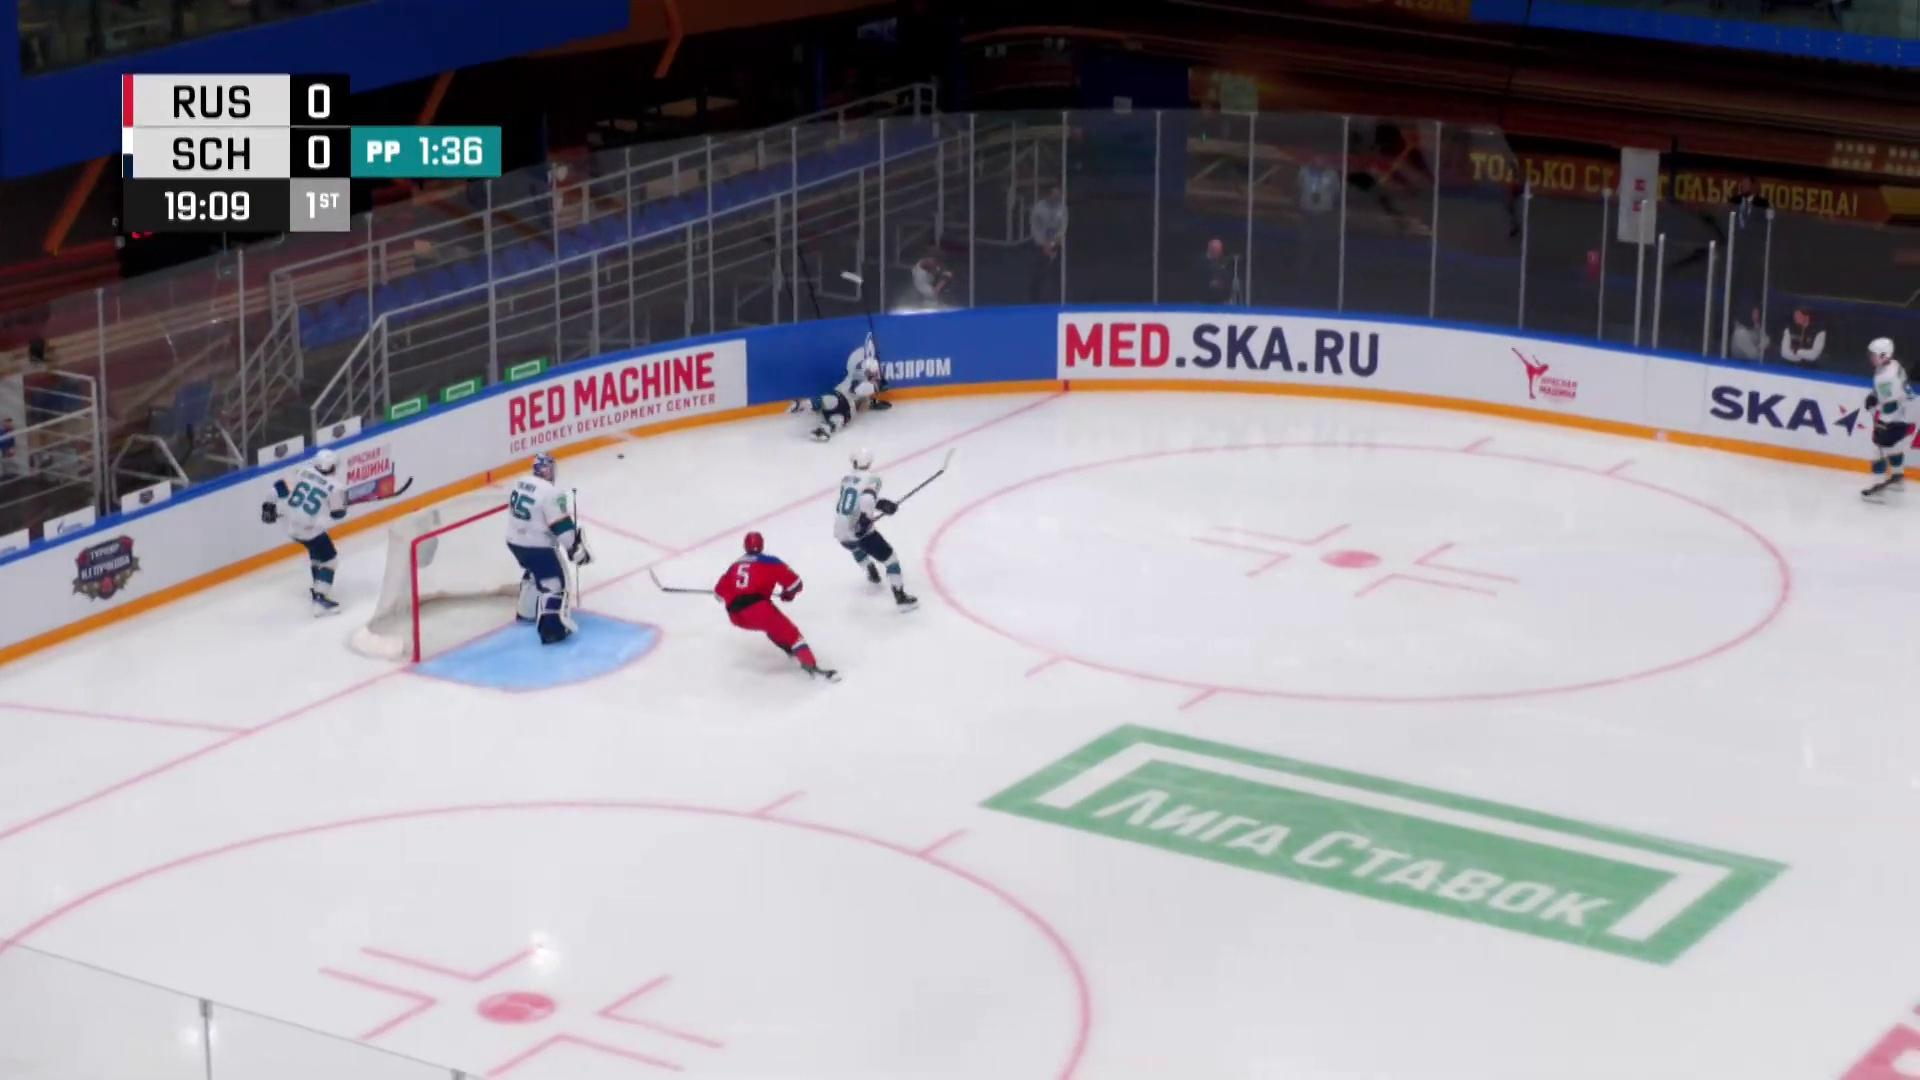ball: (617, 454, 625, 460)
